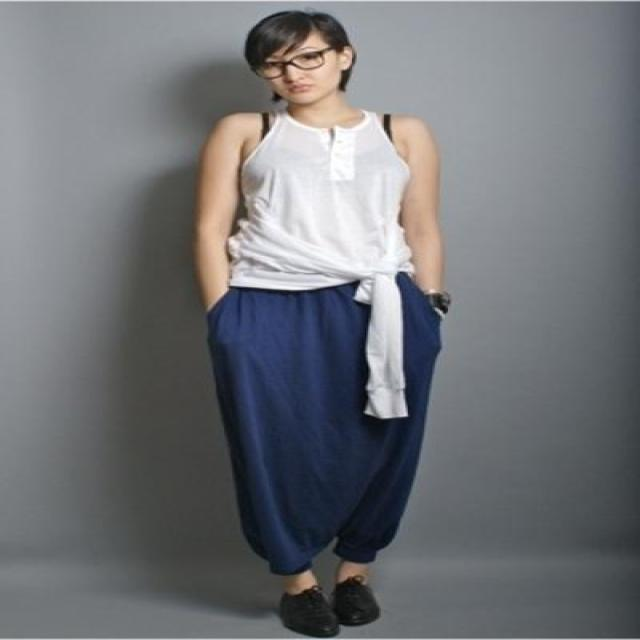pants: (208, 271, 448, 574)
shirt: (229, 110, 413, 417)
shoe: (280, 576, 363, 615)
